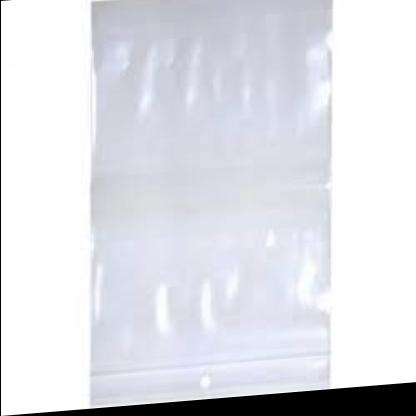trash: (91, 0, 331, 405)
